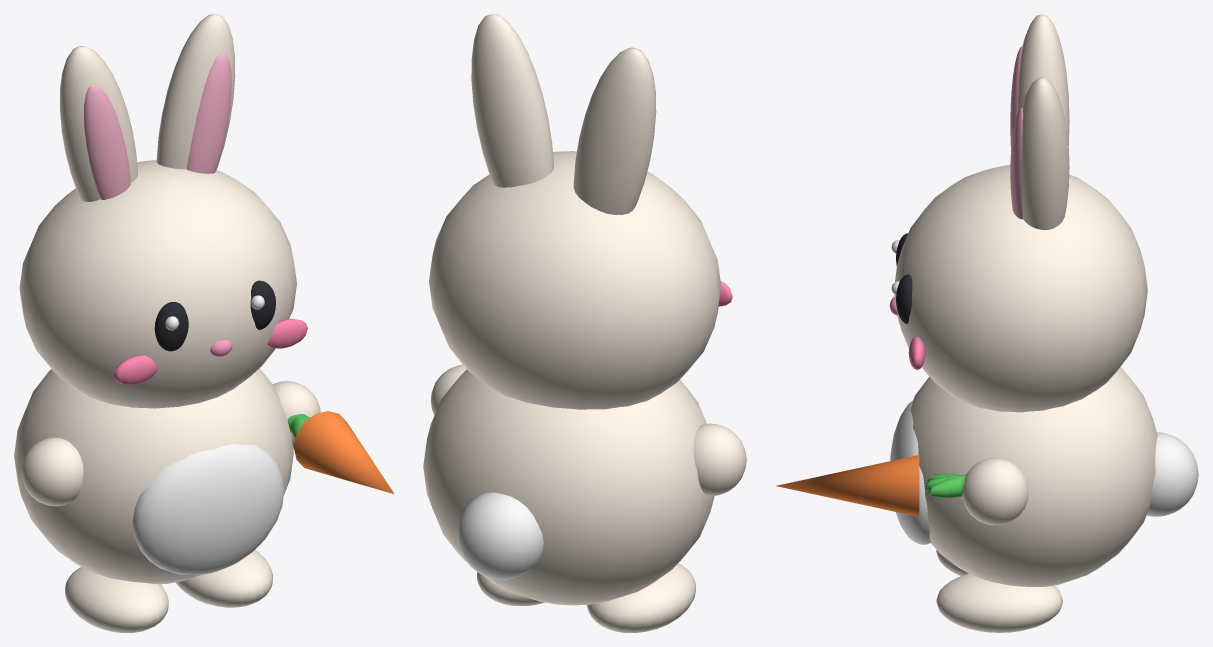
The model's file is Player_Bunny.obj.
3 renders of one model, left to right at view 1: azimuth 30°, elevation 25°; view 2: azimuth 150°, elevation 25°; view 3: azimuth 270°, elevation 25°, orthographic. The views are drawn at different scales.
Parts seen in each view (by area): view 1: Player_Bunny; view 2: Player_Bunny; view 3: Player_Bunny.
Boxes of the visible parts, x1,y1,x2,y2 form: Player_Bunny: [14, 14, 394, 632]; Player_Bunny: [423, 14, 746, 632]; Player_Bunny: [776, 14, 1198, 632].
Bounding box in the file's own units: 0.78 × 1.44 × 1.
Materials: 1 (1 with a texture image).
